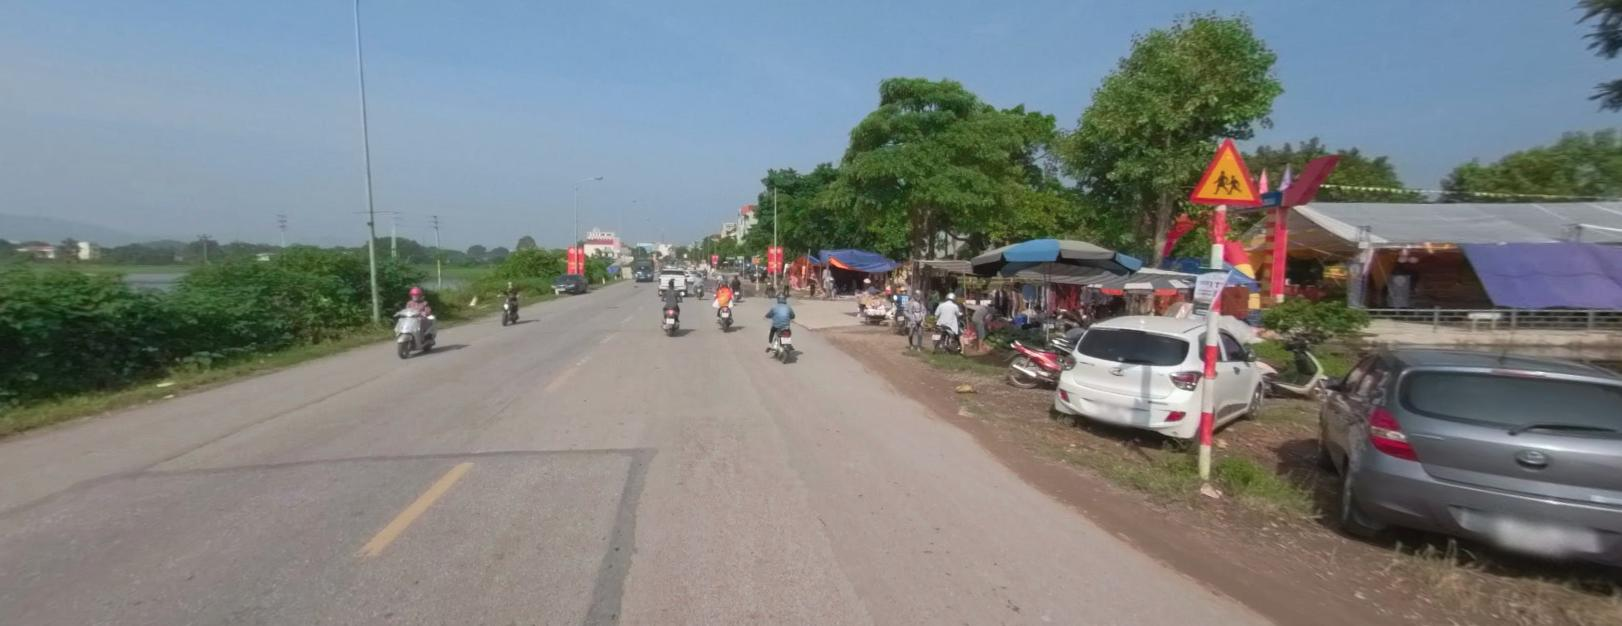Nguy hiem: (1187, 135, 1264, 204)
